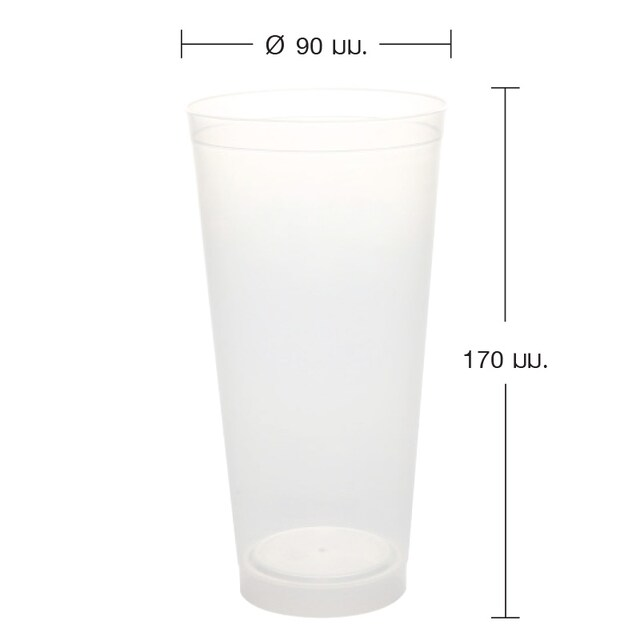plastic_bottle: (181, 80, 451, 618)
